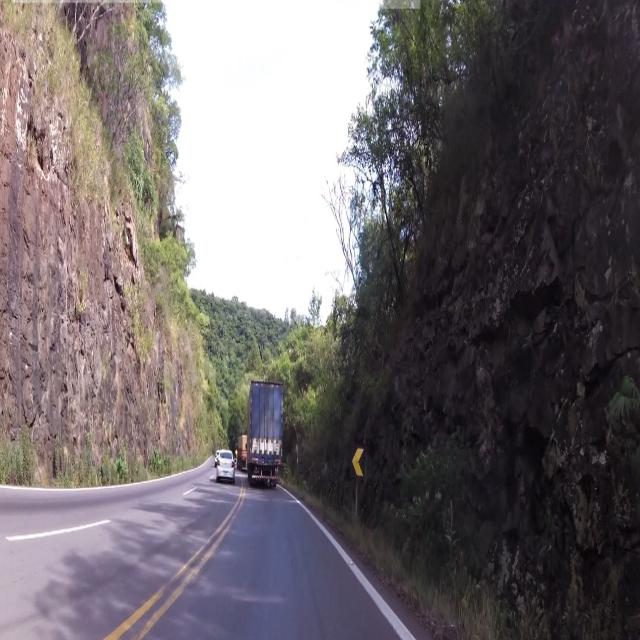Del: (351, 439, 367, 488)
